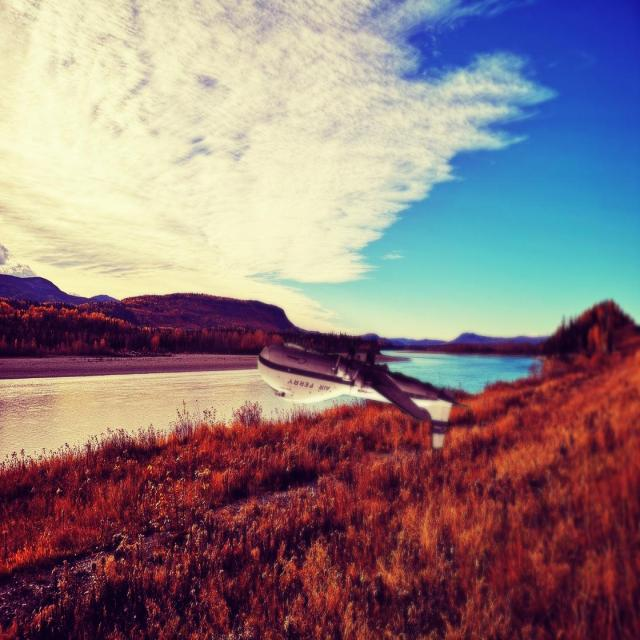airplane: (256, 340, 470, 449)
